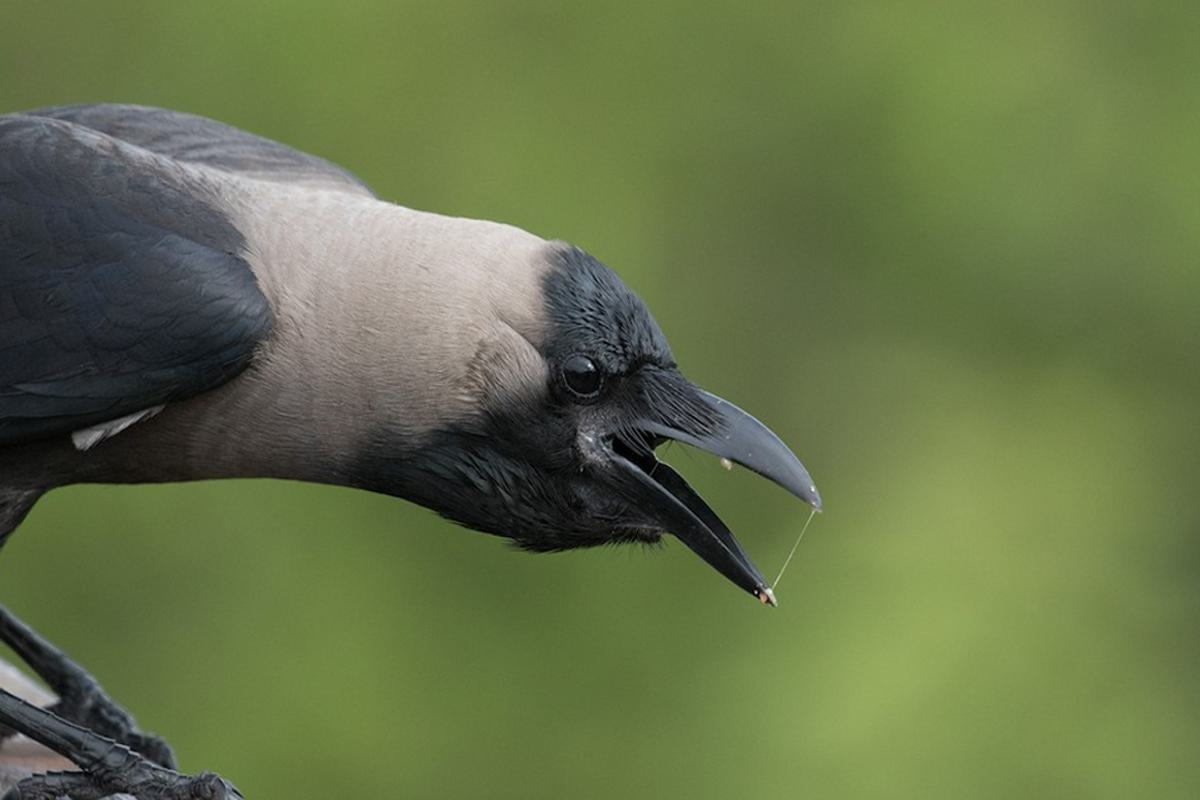crow: (1, 86, 825, 786)
